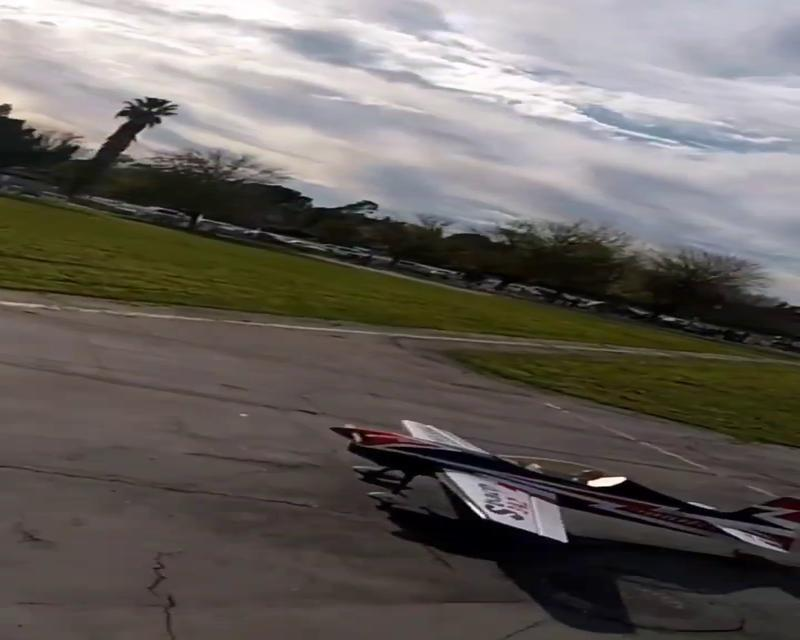UAV: (329, 419, 799, 555)
